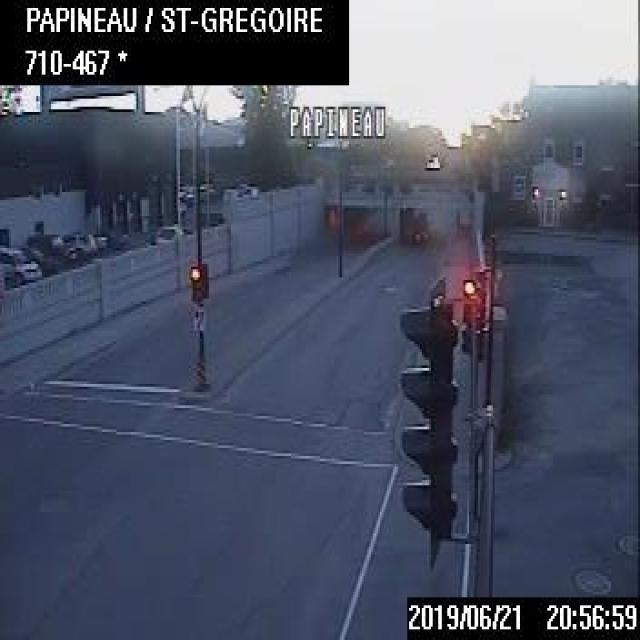vehicle: (23, 231, 78, 264), (0, 242, 40, 282)
